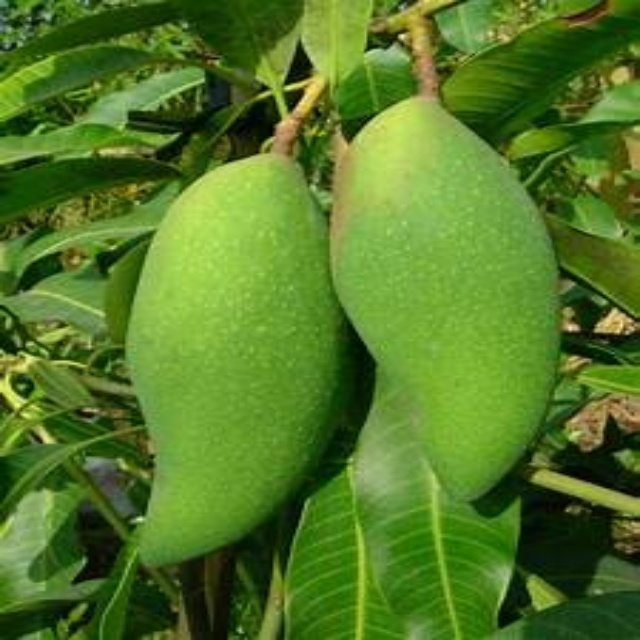mango: (122, 158, 351, 564), (329, 102, 560, 501)
